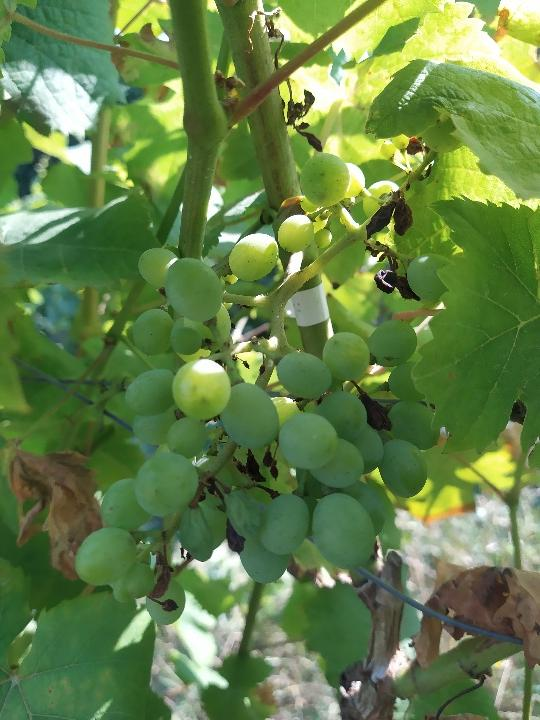grape: (74, 152, 457, 627)
